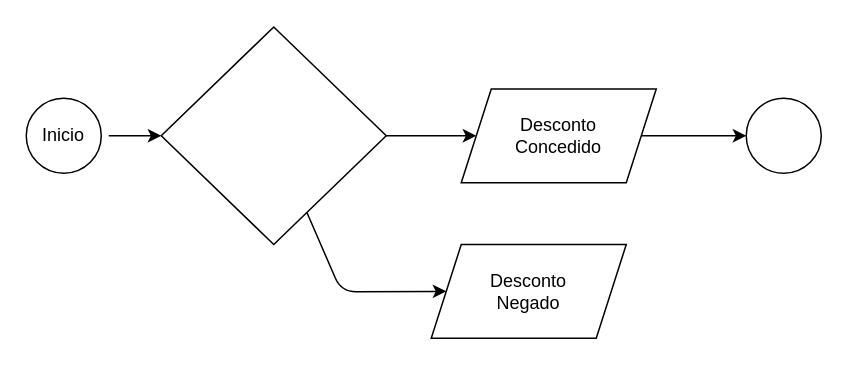
The diagram is 848 pixels wide and 365 high, and some of its shapes have lost their labels. The shapes that lost their labels are listed below. From the top down, each one's centre as x and y in pixels, then its label:
At (x=273, y=135): "valorCompra >= valor MinimoDesconto".
At (x=783, y=135): "Fim".
